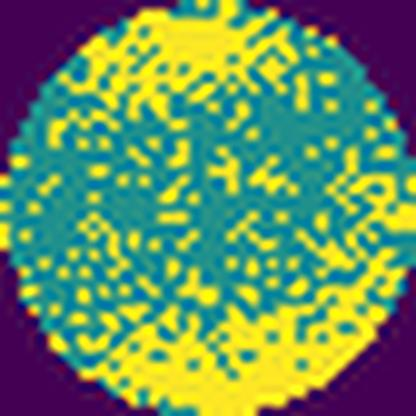Edge-Loc: (80, 261, 409, 416), (78, 12, 313, 130), (351, 162, 415, 235)
